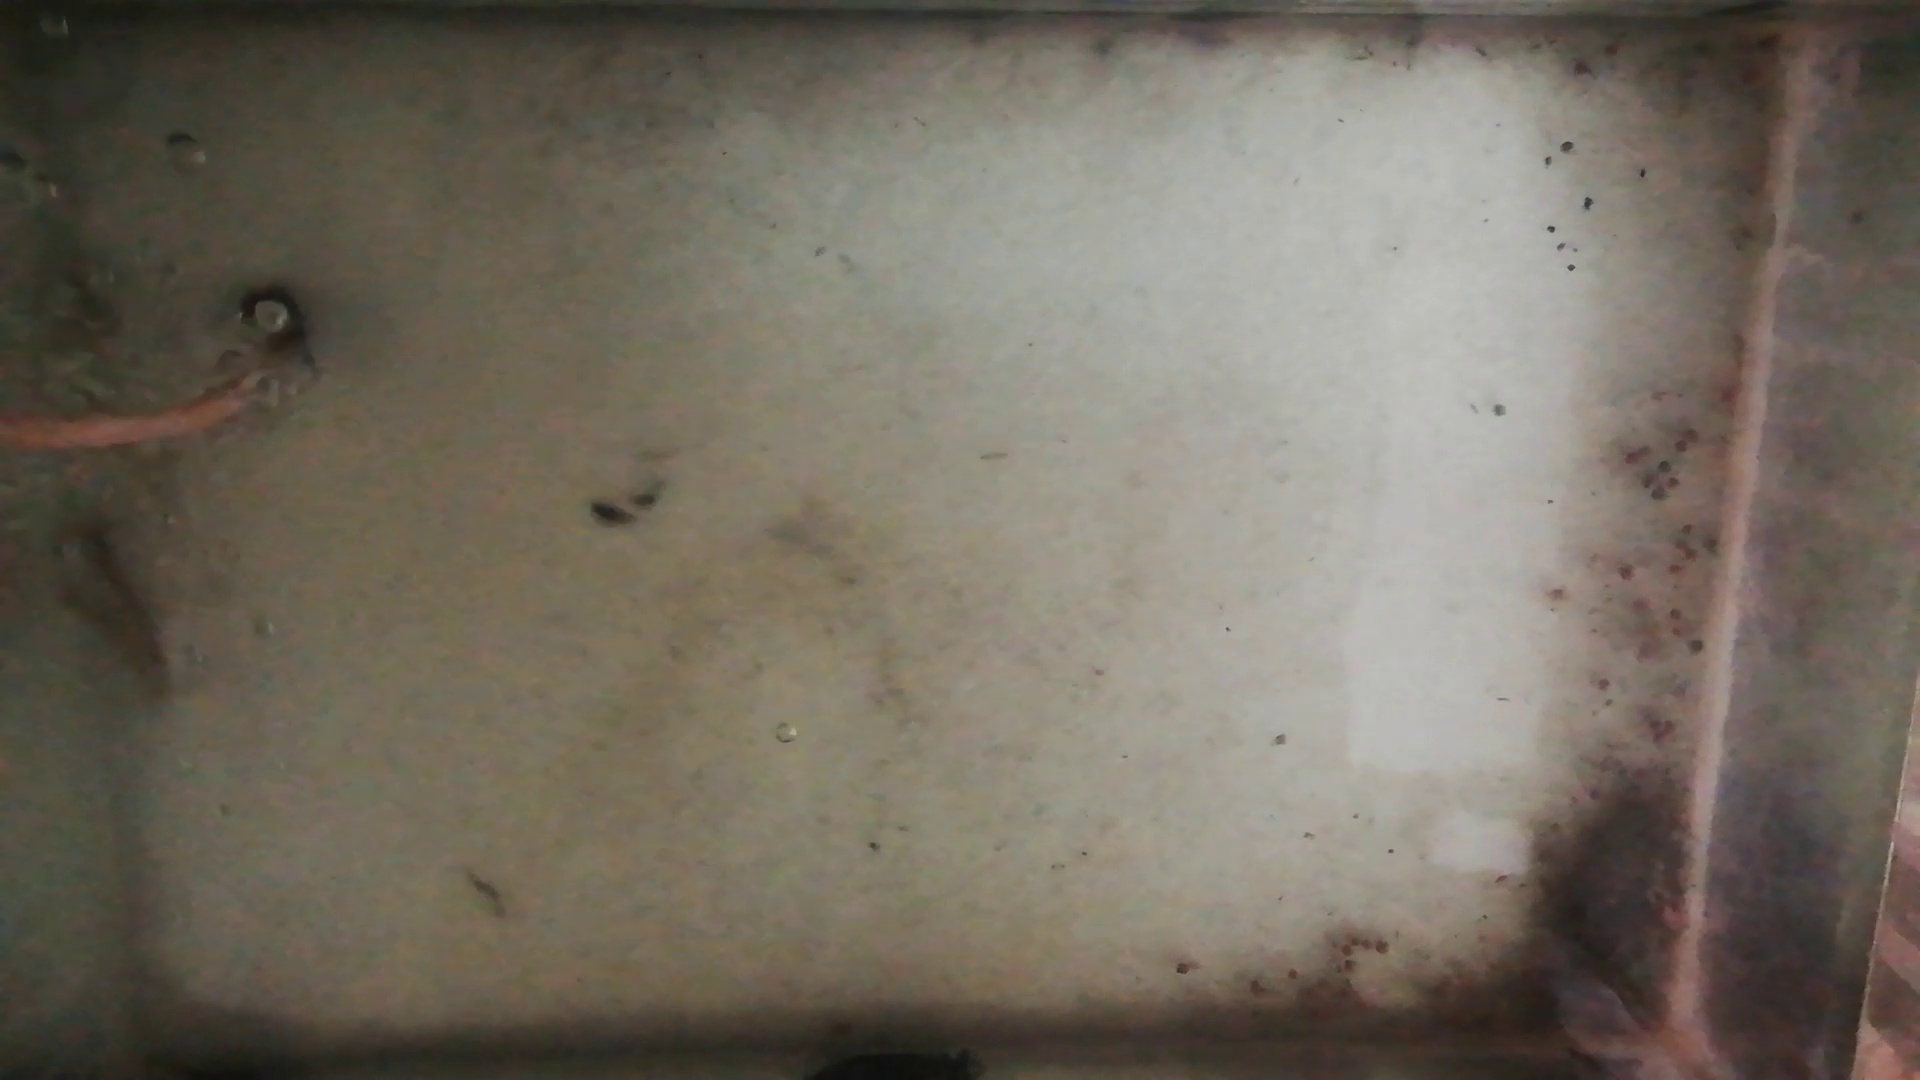fish: (69, 516, 174, 694), (51, 247, 142, 409)
